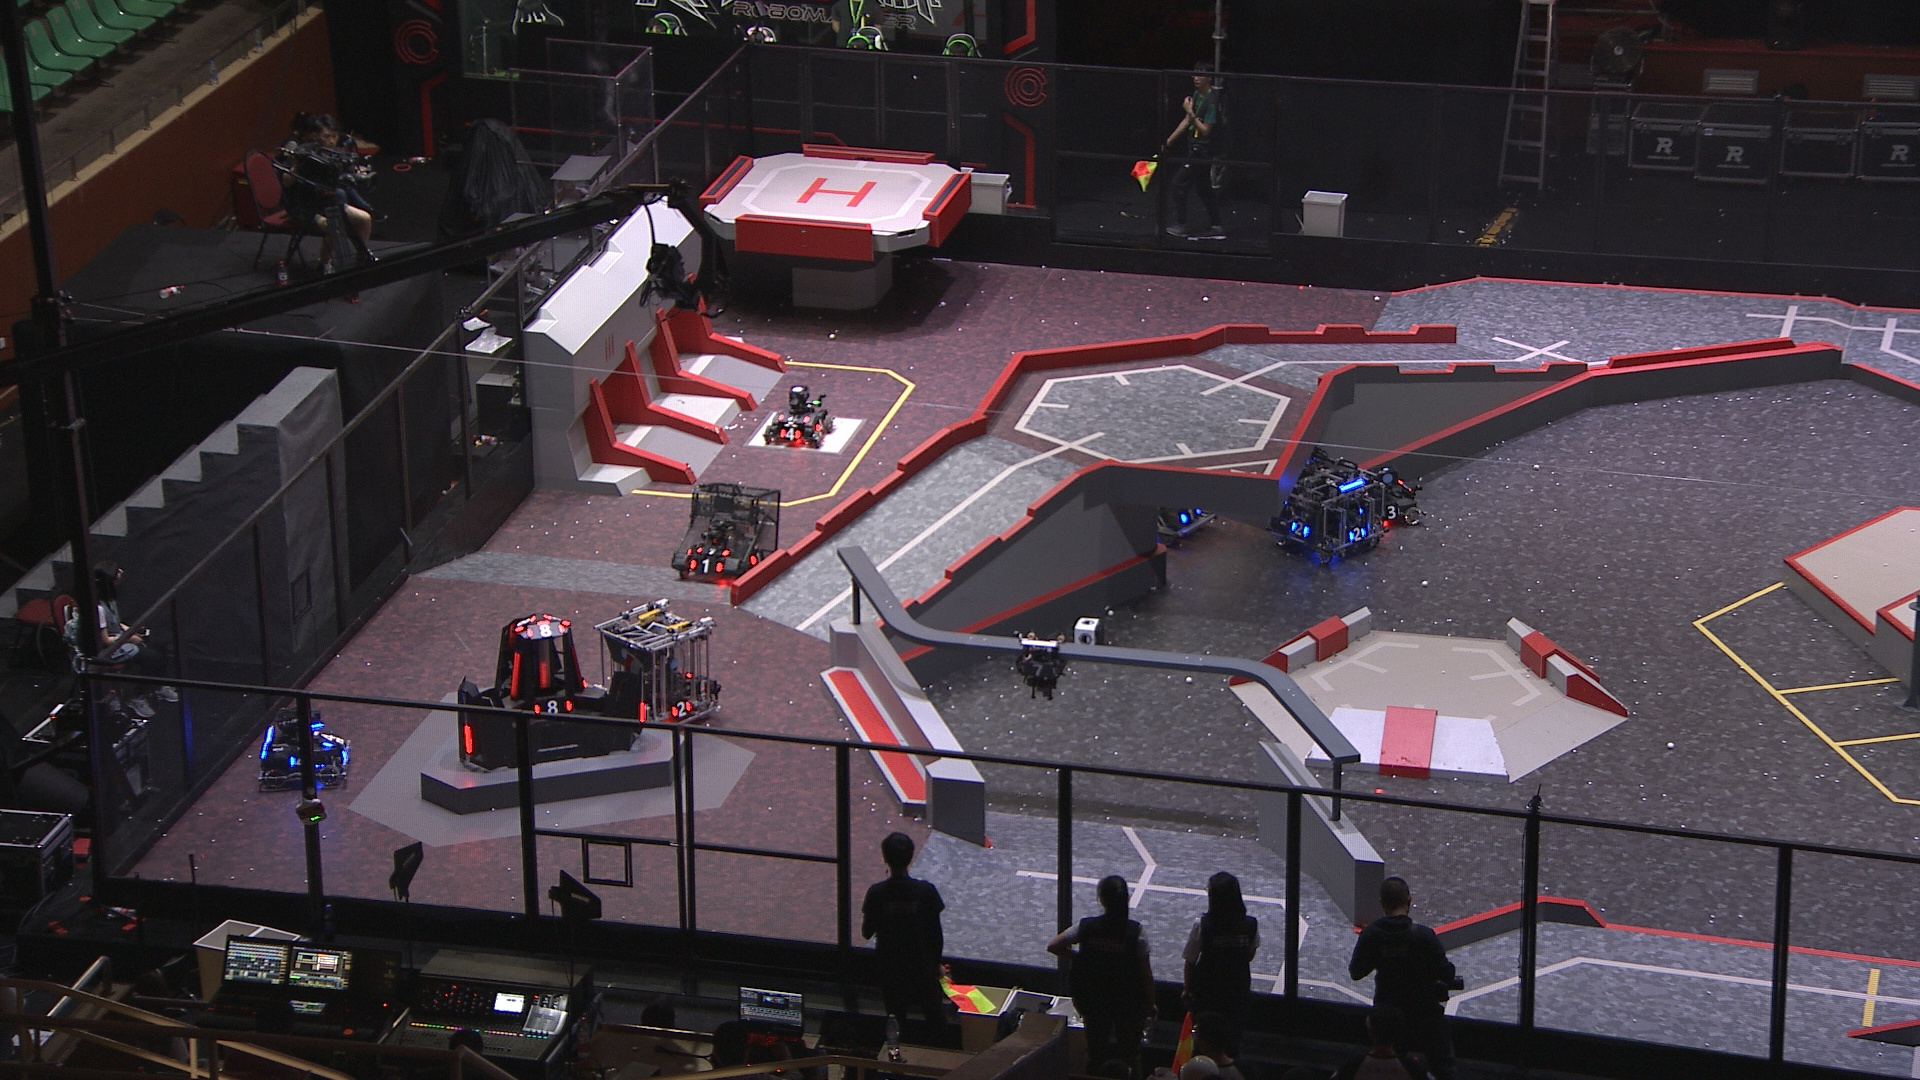armor: (506, 651, 524, 698), (524, 622, 566, 640), (535, 699, 574, 717), (1021, 659, 1058, 678), (688, 559, 724, 578), (669, 698, 694, 719), (698, 543, 731, 559), (1179, 504, 1204, 524), (537, 662, 550, 694), (1291, 520, 1309, 542), (750, 547, 769, 570), (463, 723, 475, 757), (1378, 502, 1400, 520), (318, 727, 335, 749), (287, 756, 311, 770), (781, 414, 812, 425), (778, 429, 800, 443), (514, 615, 531, 633), (1349, 526, 1365, 543), (637, 702, 647, 723), (816, 419, 829, 433)
base: (456, 609, 651, 767)
car: (593, 593, 723, 732), (1261, 448, 1389, 566), (671, 481, 787, 588), (257, 708, 353, 796), (1135, 465, 1224, 545), (1346, 467, 1432, 537), (764, 385, 837, 452)
watcher: (1011, 629, 1073, 699)
